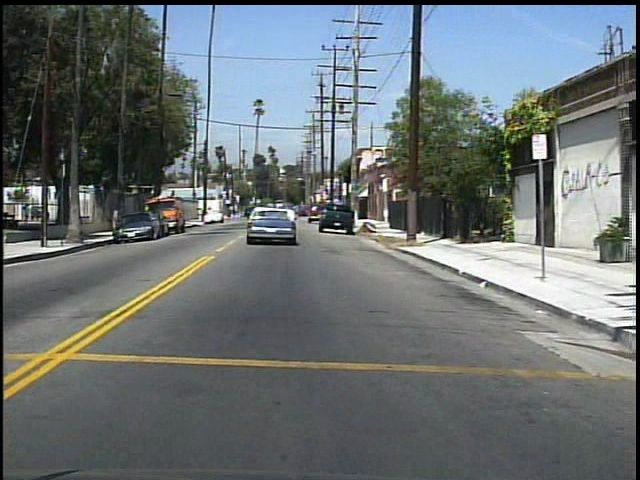person: (109, 202, 123, 235), (20, 200, 37, 225), (73, 198, 87, 227)
